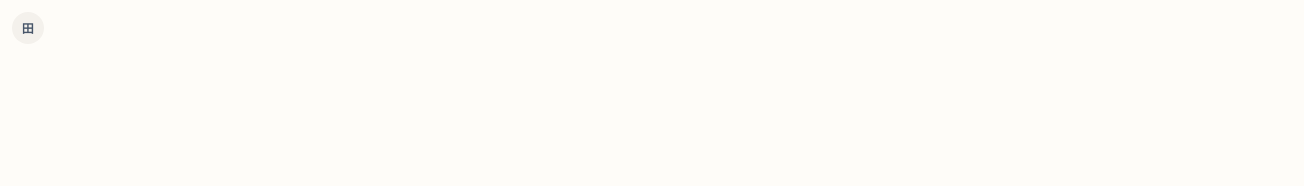
Scenario: GAP-209 サインアウトの導線 › Escape でメニューを閉じられる
Step 1. Click the button named "アカウント: 田中" → {"x": 28, "y": 28}, box [12,12,44,44]
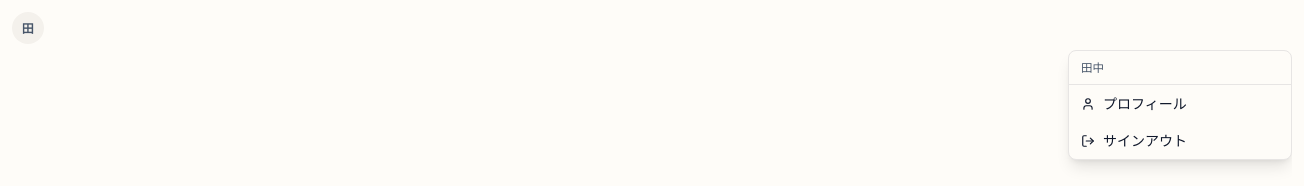
Check: the menu is shown, box [1068,50,1292,160]
Step 2. Press Escape
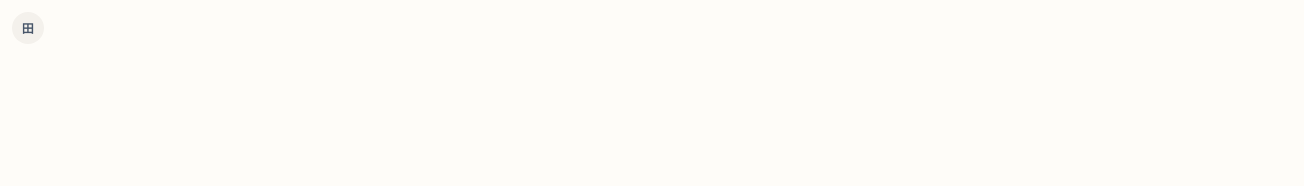
Check: the menu is gone
